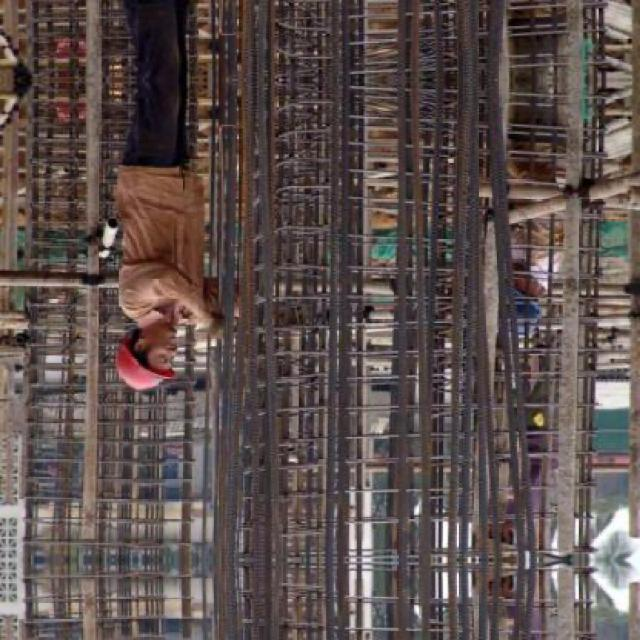con casco: (82, 248, 216, 401)
